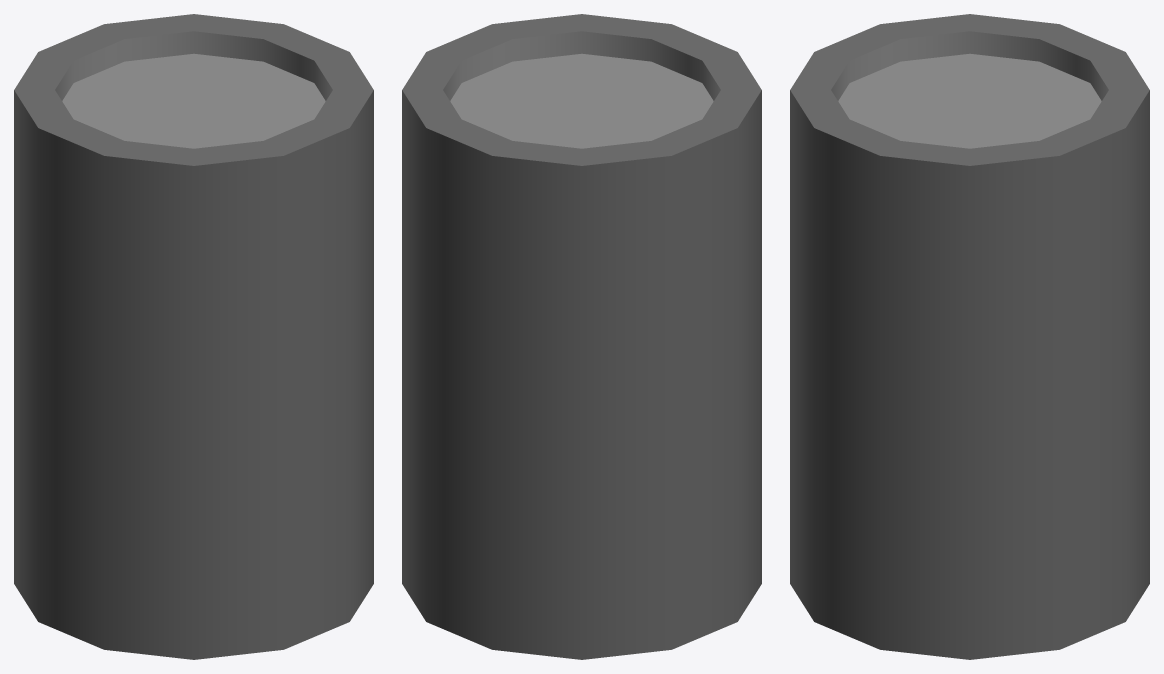
File: Barrel.fbx
3 views of the same model, side by side, from view 1: azimuth 30°, elevation 25°; view 2: azimuth 150°, elevation 25°; view 3: azimuth 270°, elevation 25° (orthographic).
Parts seen in each view (by area): view 1: Barrel; view 2: Barrel; view 3: Barrel.
Boxes of the visible parts, x1,y1,x2,y2 form: Barrel: (14, 14, 373, 659); Barrel: (402, 14, 761, 659); Barrel: (790, 14, 1149, 659).
Size of the model in its own units: 0.7921 by 1.2 by 0.7921.
